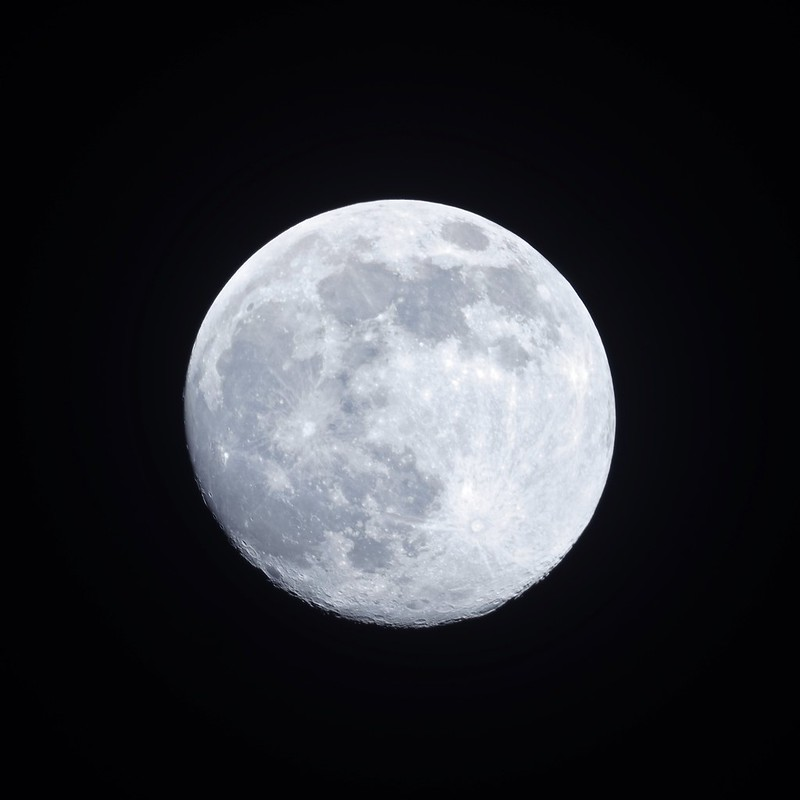crater: (443, 477, 520, 566), (426, 218, 498, 262), (288, 404, 335, 450), (218, 445, 240, 474), (537, 385, 559, 411), (411, 335, 432, 357), (245, 508, 261, 528)
